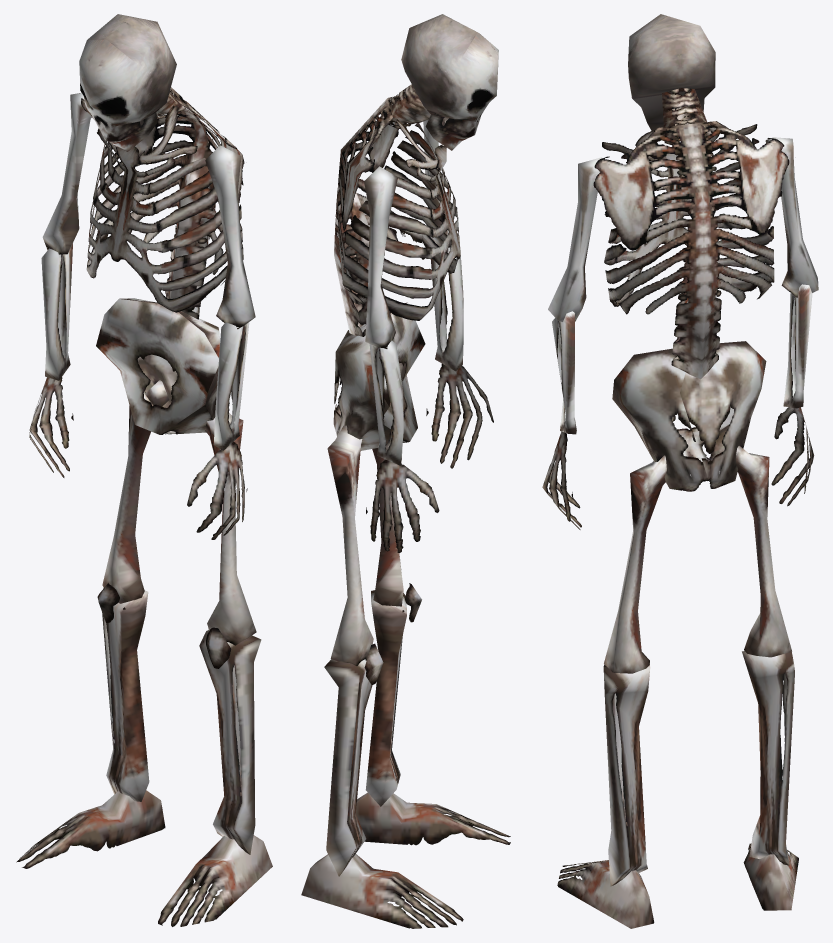
The picture shows the model from 3 angles, left to right: view 1: azimuth 30°, elevation 25°; view 2: azimuth 150°, elevation 25°; view 3: azimuth 270°, elevation 25°; orthographic projection.
Parts seen in each view (by area): view 1: Mesh_0109.rip_noesis_meshnode_0000; view 2: Mesh_0109.rip_noesis_meshnode_0000; view 3: Mesh_0109.rip_noesis_meshnode_0000.
Boxes of the visible parts, box(x1,y1,x2,y2) form: Mesh_0109.rip_noesis_meshnode_0000: box(16, 14, 272, 926); Mesh_0109.rip_noesis_meshnode_0000: box(301, 14, 510, 928); Mesh_0109.rip_noesis_meshnode_0000: box(542, 14, 818, 928).
Bounding box in the file's own units: 1.04 × 4.59 × 1.34.
Materials: 1 (1 with a texture image).
